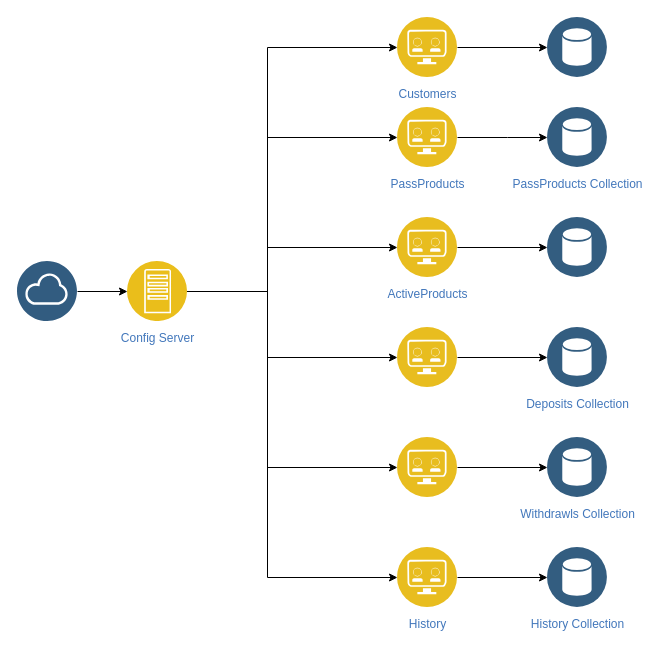
Image size: 662x657. Some labels were removed from this diagram. Here are the shapes that lost their labels. From the top down, the centre of each, then its label:
At point (577, 47): "Customers Collection".
At point (577, 247): "ActiveProducts Collection".
At point (47, 291): "GitHub".
At point (427, 357): "Deposits".
At point (427, 467): "withdrawls".
